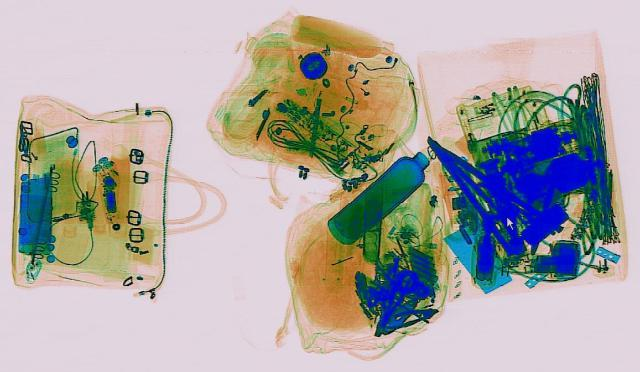Pliers: (385, 302, 443, 327)
